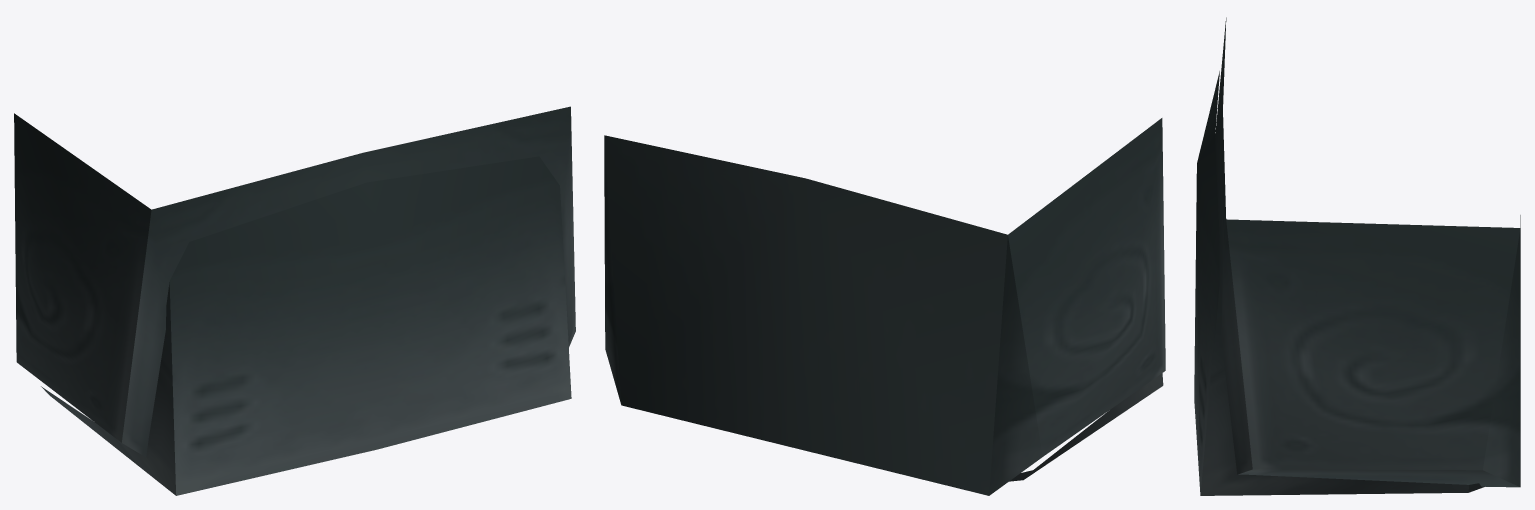
File: monitor.glb
3 views of the same model, side by side, from view 1: azimuth 30°, elevation 25°; view 2: azimuth 150°, elevation 25°; view 3: azimuth 270°, elevation 25° (orthographic).
Parts seen in each view (by area): view 1: rsrc.world.prop.outershell.auctionhouse.monitor-Submesh[1]; view 2: rsrc.world.prop.outershell.auctionhouse.monitor-Submesh[1]; view 3: rsrc.world.prop.outershell.auctionhouse.monitor-Submesh[1].
Part boxes in pixels (box(x1,y1,x2,y2)): rsrc.world.prop.outershell.auctionhouse.monitor-Submesh[1]: box(14, 106, 575, 495); rsrc.world.prop.outershell.auctionhouse.monitor-Submesh[1]: box(604, 118, 1165, 495); rsrc.world.prop.outershell.auctionhouse.monitor-Submesh[1]: box(1194, 17, 1520, 495).
Bounding box in the file's own units: 2.27 × 1.28 × 1.3.
Materials: 2 (1 with a texture image).
